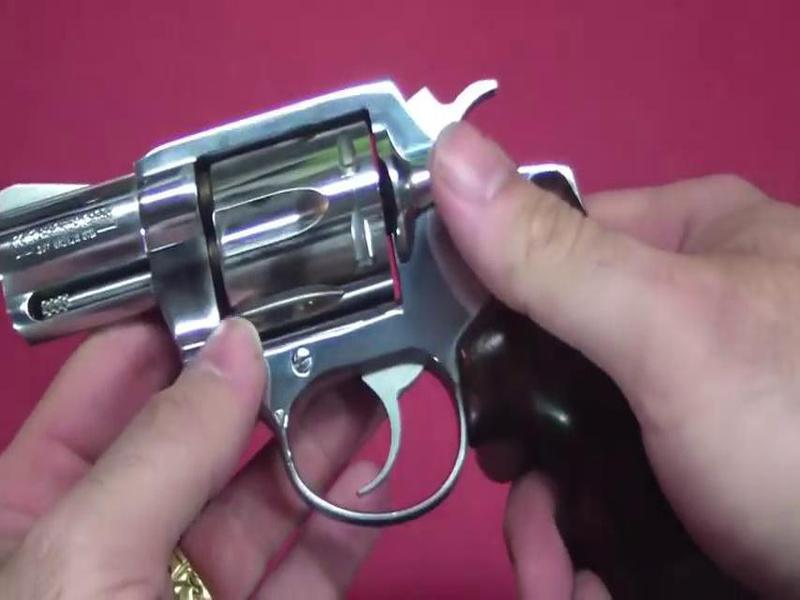Revolver: (27, 75, 608, 544)
